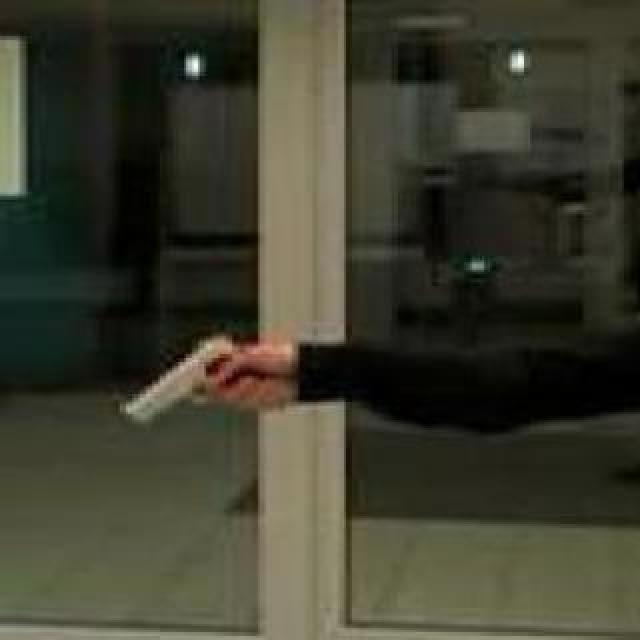Guns: (106, 321, 257, 450)
